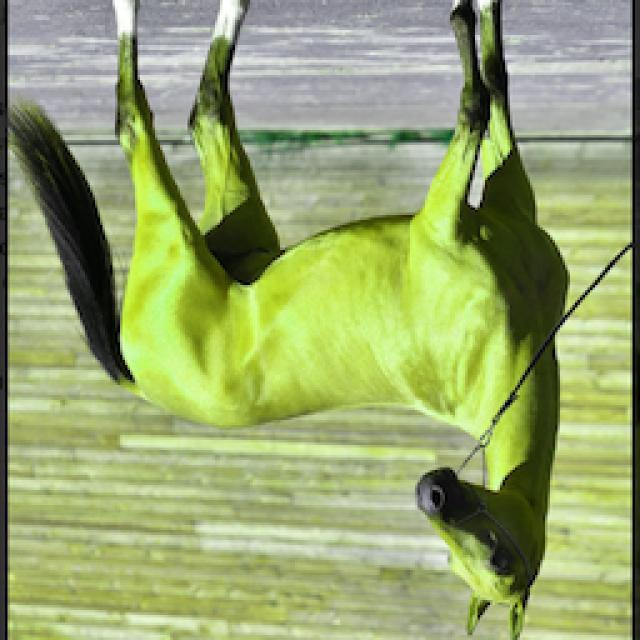Horse: (10, 2, 578, 640)
